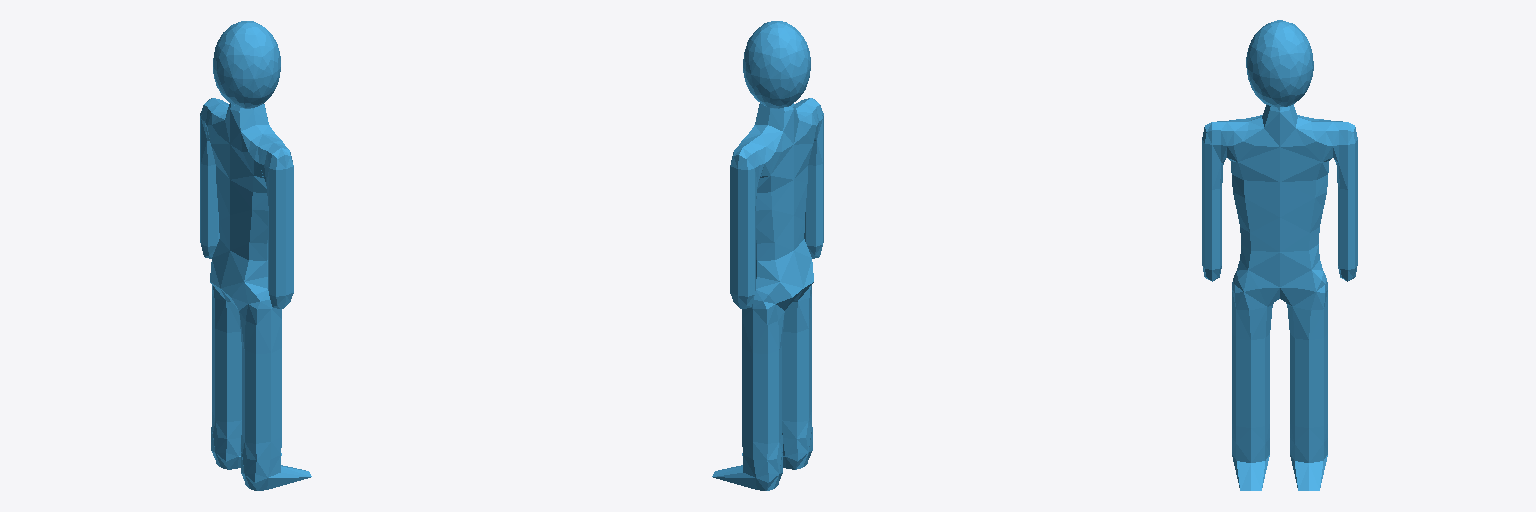
robot.urdf — person:
<?xml version="1.0"?>

<robot name="person">

  <link name="base_footprint"/>

  <link name="base_link">
    <collision>
      <origin xyz="0 0 0" rpy="0 0 0"/>
      <geometry>
        <mesh filename="package://iri_objects_description/meshes/person_simple.stl"/>
      </geometry>
    </collision>

    <visual>
      <origin xyz="0 0 0" rpy="0 0 0"/>
      <geometry>
        <mesh filename="package://iri_objects_description/meshes/person_simple.stl"/>
      </geometry>
      <material name="grey"/>
    </visual>

    <inertial>
      <mass value="80.0" />
      <origin xyz="0 0 0" />
      <inertia 
        ixx="1.0" ixy="0.0" ixz="0.0"
        iyy="1.0" iyz="0.0" 
        izz="1.0" />
    </inertial>
  </link>
  
  <joint name="base_footprint_to_base_link" type="fixed">
    <parent link="base_footprint"/>
    <child link="base_link"/>
    <origin xyz="0 0 0.0"/>
  </joint>
  
  <link name="head">
  </link>
  
  <joint name="base_link_to_head" type="fixed">
    <parent link="base_link"/>
    <child link="head"/>
    <origin xyz="0 0 1.6"/>
  </joint>

</robot>

--- Render facts (derived) ---
The picture shows the robot from 3 angles, left to right: view 1: azimuth 30°, elevation 25°; view 2: azimuth 150°, elevation 25°; view 3: azimuth 270°, elevation 25°; orthographic projection.
Robot: person — 3 links, 2 joints (2 fixed); root link base_footprint; default pose: every joint at zero.
Links seen in each view (by area): view 1: base_link; view 2: base_link; view 3: base_link.
Boxes of the visible links, box(x1,y1,x2,y2) form: base_link: box(200, 21, 311, 490); base_link: box(712, 21, 823, 490); base_link: box(1202, 20, 1357, 490).
Bounding box of the posed robot: 0.323 × 0.5635 × 1.78 m (x, y, z).
Meshes: 1 distinct files referenced, 1 mesh visuals loaded (1 binary STL).
